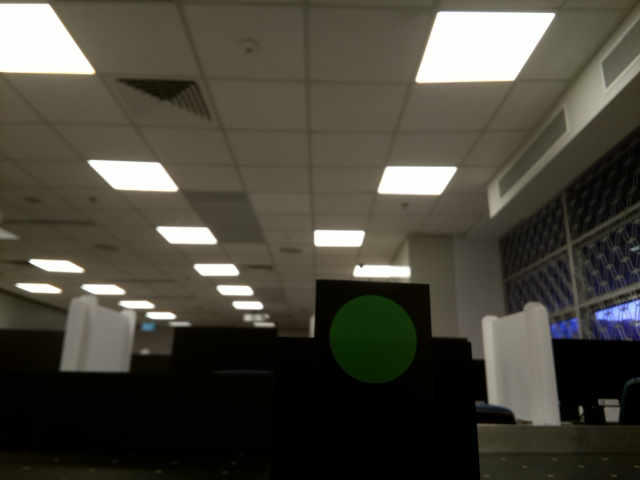go: (327, 296, 421, 387)
